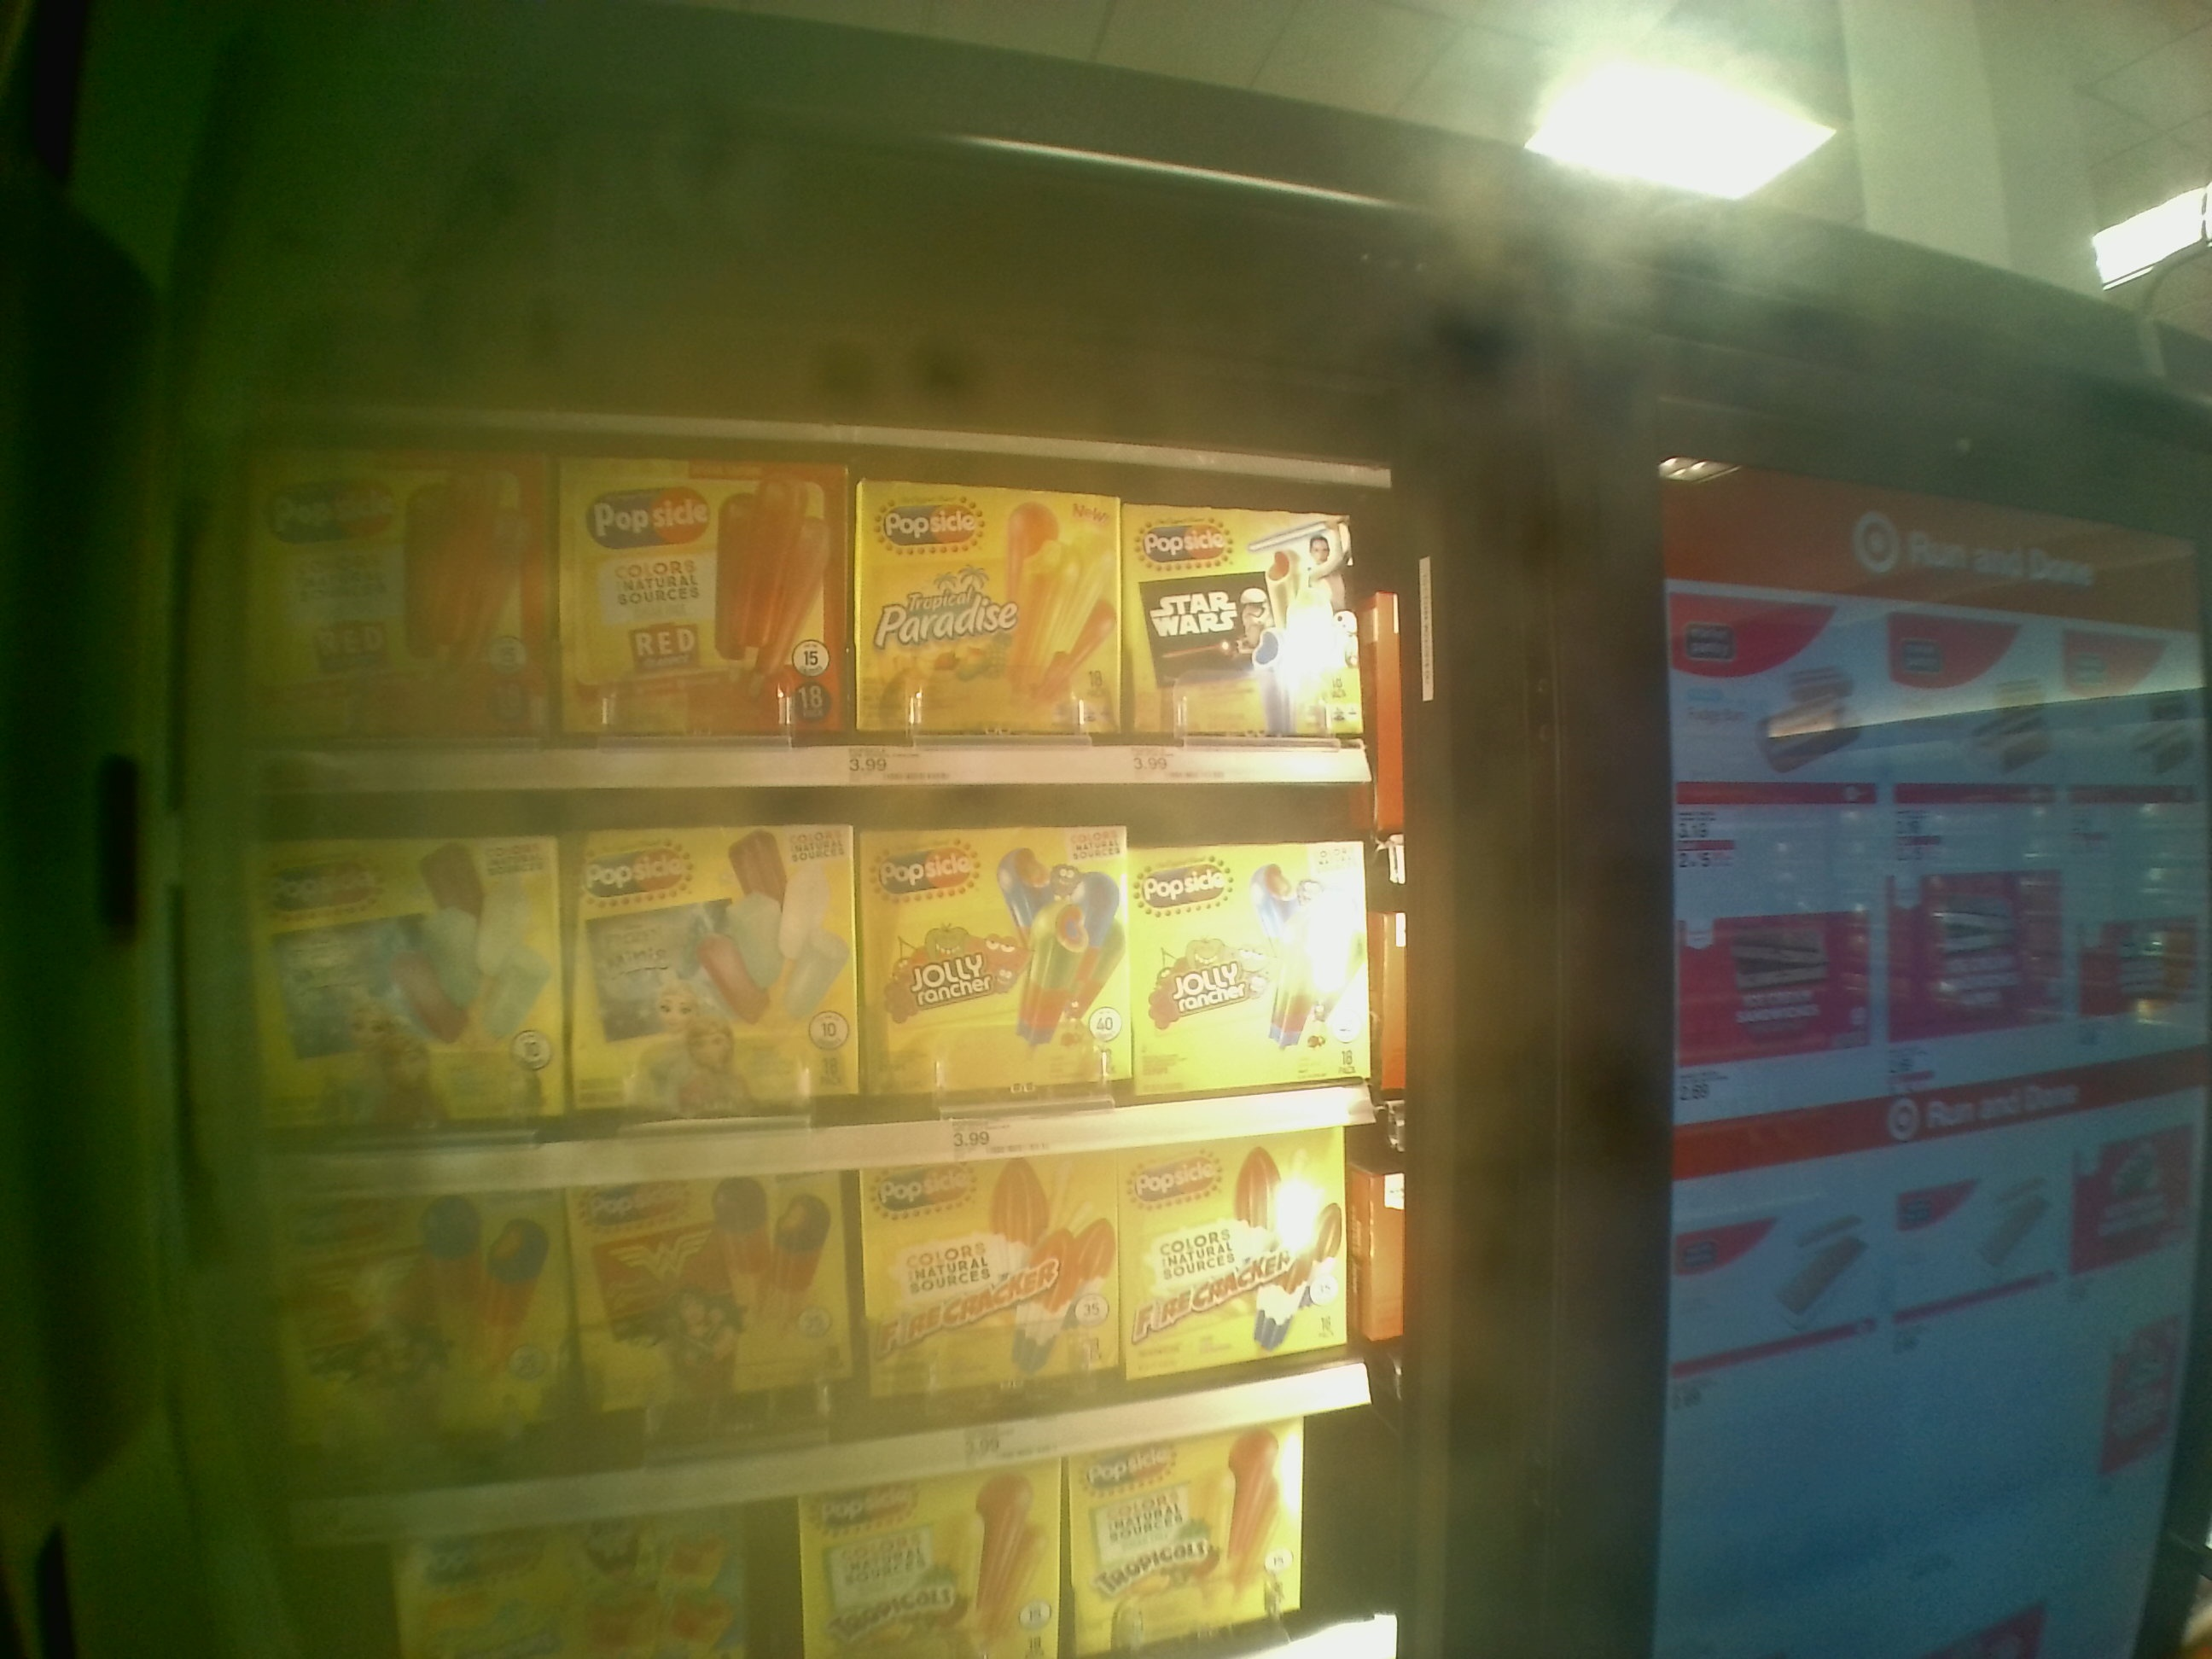shelf: (249, 772, 1393, 1143), (272, 1134, 1392, 1500)
